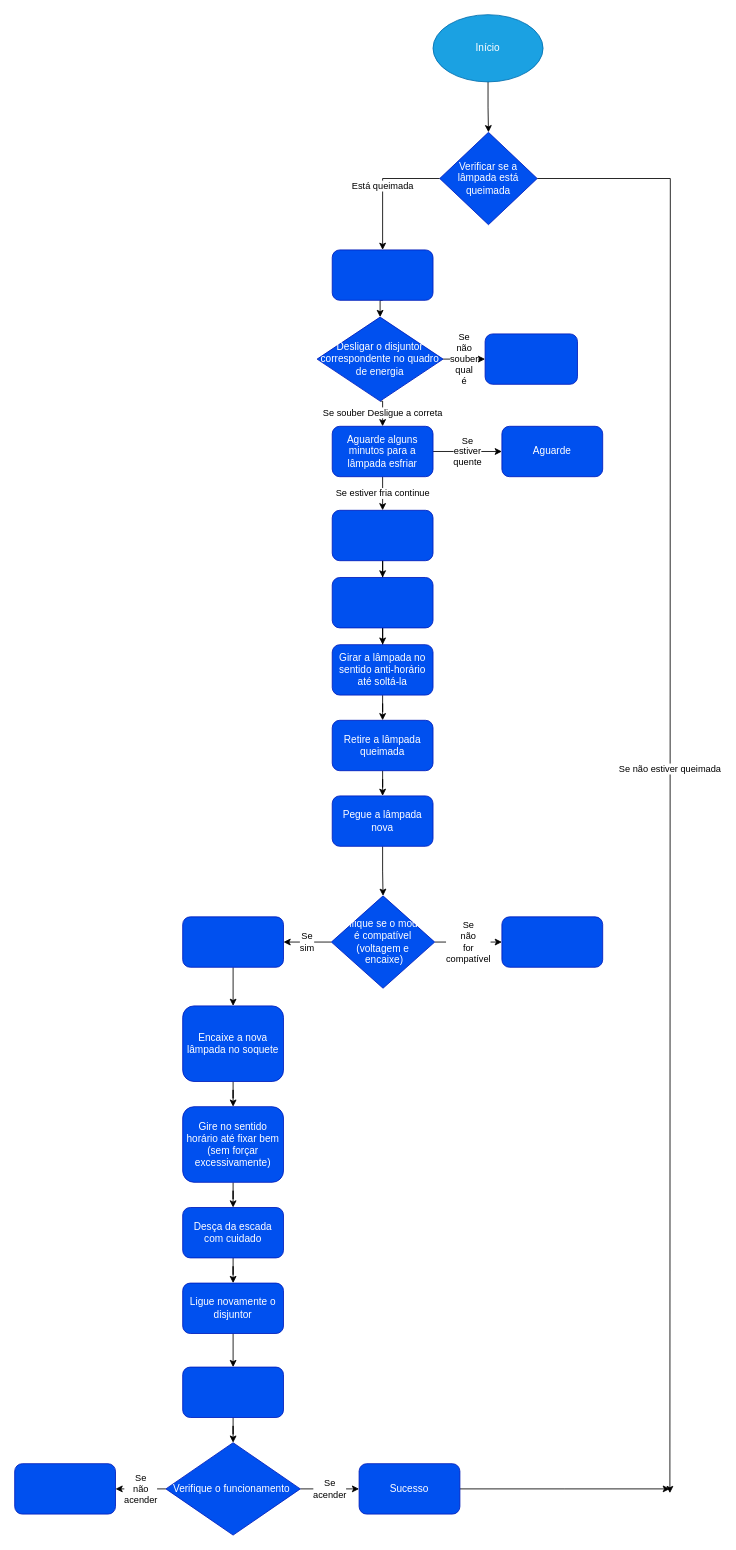
Some shapes in this 736 by 1550 pixel diagram are drawn without their labels. Here are the shapes that lost their labels. From the top down, the box of each, then its label:
(331, 249, 433, 300): Desligar o interruptor da luz
(484, 333, 578, 384): Desligue o disjuntor geral
(331, 509, 433, 561): Posicione a escada/cadeira de forma estável
(331, 577, 433, 628): Segure a lâmpada com firmeza
(182, 916, 284, 967): Continue
(501, 916, 603, 967): Substituir por um modelo compatível
(182, 1366, 284, 1418): ligue o interruptor
(14, 1463, 116, 1514): Verifique o encaixe ou o funcionamento da lâmpada
